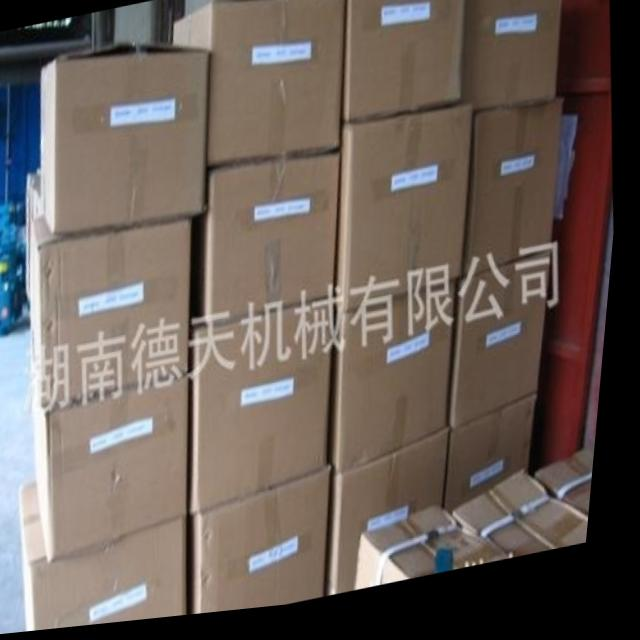box: (32, 214, 196, 415), (41, 41, 210, 233), (194, 304, 340, 519), (39, 376, 198, 565), (172, 0, 346, 171), (340, 110, 476, 322), (27, 481, 198, 633), (194, 158, 343, 330), (337, 287, 463, 481), (198, 470, 338, 620), (335, 435, 457, 602), (456, 256, 557, 439), (344, 0, 466, 132), (473, 111, 565, 286), (365, 512, 519, 597), (461, 0, 562, 123), (469, 482, 599, 569), (456, 404, 546, 524), (543, 454, 605, 530), (27, 167, 46, 223)
